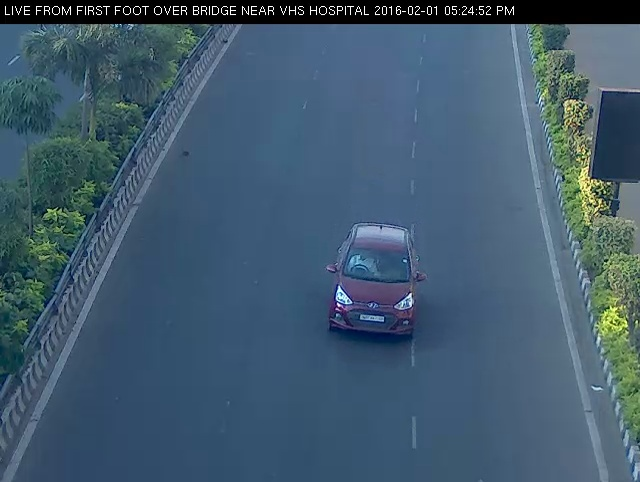Car: (315, 216, 436, 353)
